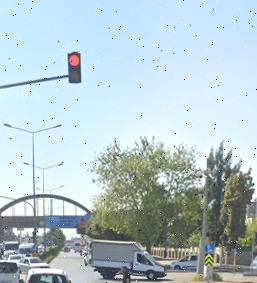redlight: (67, 51, 83, 83)
